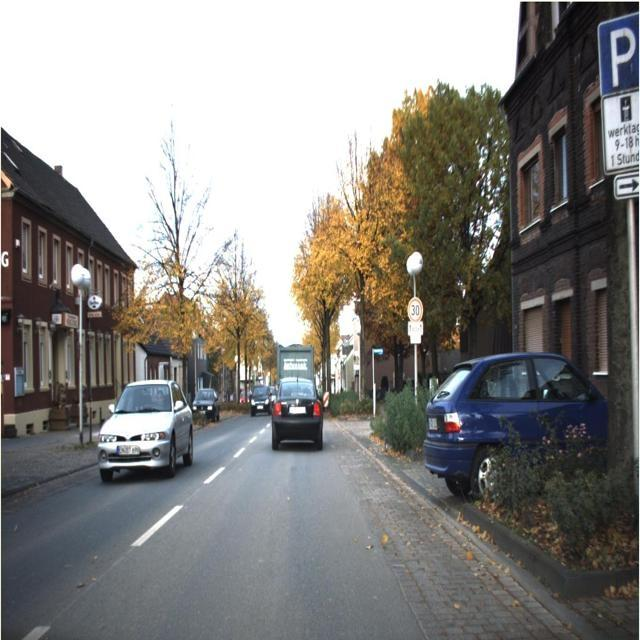forb_speed_over_30: (408, 297, 424, 322)
